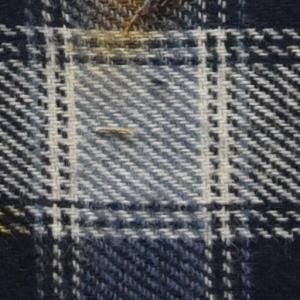Damage: (90, 1, 193, 47)
Oil Stain: (39, 1, 195, 155)
Stain: (1, 202, 31, 247)
